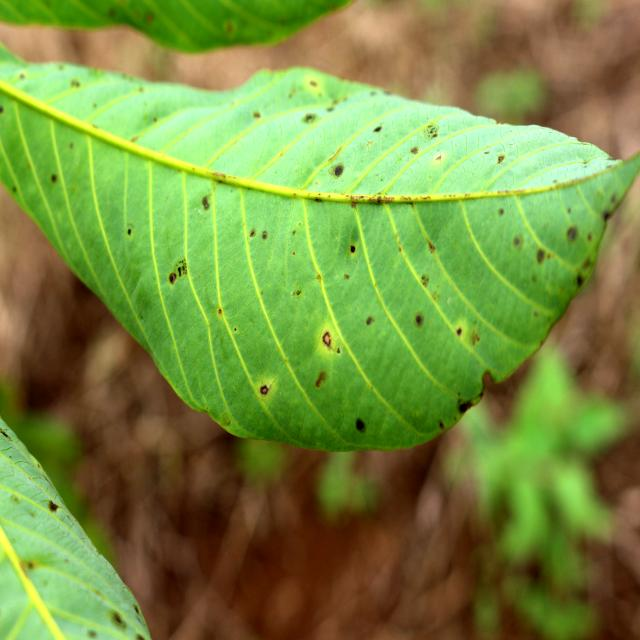Colletotrichum: (322, 332, 330, 346), (259, 384, 268, 396), (334, 165, 342, 177), (168, 273, 176, 285), (350, 245, 356, 253)
